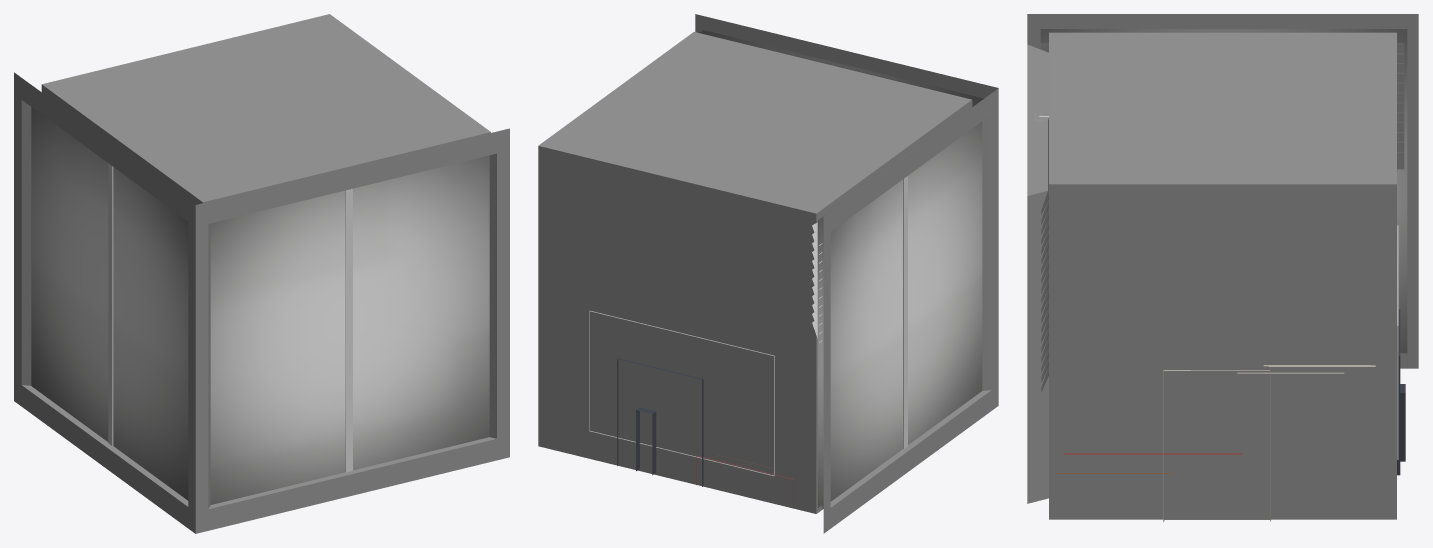
Rendered from Wall_11_Fake_Interior_Corner.FBX.
The picture shows the model from 3 angles, left to right: view 1: azimuth 30°, elevation 25°; view 2: azimuth 150°, elevation 25°; view 3: azimuth 270°, elevation 25°; orthographic projection. The views are drawn at different scales.
Parts seen in each view (by area): view 1: Wall_11_Fake_Interior_Corner; view 2: Wall_11_Fake_Interior_Corner, Wall_11_Fake_Interior_D, Wall_11_Fake_Interior_A, Wall_11_Blind_01_LOD0, Wall_11_Fake_Interior_C; view 3: Wall_11_Fake_Interior_Corner, Wall_11_Blind_02_LOD0, Wall_11_Blind_01_LOD0, Wall_11_Fake_Interior_C, Wall_11_Fake_Interior_D, Wall_11_Fake_Interior_A, Wall_11_Fake_Interior_B.
Boxes of the visible parts, x1=… form: Wall_11_Fake_Interior_Corner: x1=14, y1=14, x2=509, y2=533; Wall_11_Fake_Interior_Corner: x1=538, y1=14, x2=998, y2=533; Wall_11_Fake_Interior_D: x1=636, y1=407, x2=793, y2=508; Wall_11_Fake_Interior_A: x1=589, y1=310, x2=774, y2=475; Wall_11_Blind_01_LOD0: x1=812, y1=222, x2=822, y2=342; Wall_11_Fake_Interior_C: x1=617, y1=358, x2=703, y2=486; Wall_11_Fake_Interior_Corner: x1=1027, y1=14, x2=1418, y2=519; Wall_11_Blind_02_LOD0: x1=1039, y1=116, x2=1048, y2=392; Wall_11_Blind_01_LOD0: x1=1040, y1=43, x2=1404, y2=169; Wall_11_Fake_Interior_C: x1=1064, y1=309, x2=1400, y2=475; Wall_11_Fake_Interior_D: x1=1056, y1=365, x2=1405, y2=473; Wall_11_Fake_Interior_A: x1=1237, y1=225, x2=1398, y2=459; Wall_11_Fake_Interior_B: x1=1163, y1=370, x2=1270, y2=522.
Size of what is drawn, in the model's own units: 180 by 180 by 180.
